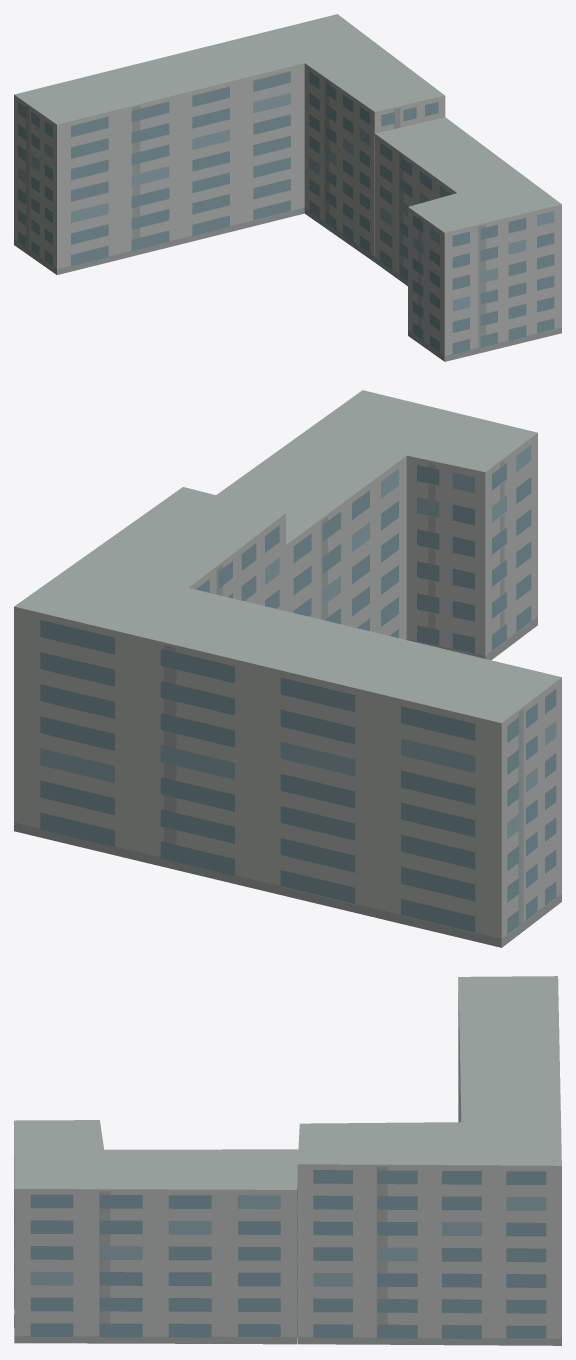
The model's file is residential-201c137c-c7a1-4c1c-8325-d9524601a007.glb.
3 renders of one model, top to bottom at view 1: azimuth 30°, elevation 25°; view 2: azimuth 150°, elevation 25°; view 3: azimuth 270°, elevation 25°, orthographic. The views are drawn at different scales.
Visible parts, largest first — view 1: residential-201c137c-c7a1-4c1c-8325-d9524601a007.tmp; view 2: residential-201c137c-c7a1-4c1c-8325-d9524601a007.tmp; view 3: residential-201c137c-c7a1-4c1c-8325-d9524601a007.tmp.
Part boxes in pixels (box(x1,y1,x2,y2)): residential-201c137c-c7a1-4c1c-8325-d9524601a007.tmp: box(14, 14, 561, 361); residential-201c137c-c7a1-4c1c-8325-d9524601a007.tmp: box(14, 390, 561, 947); residential-201c137c-c7a1-4c1c-8325-d9524601a007.tmp: box(14, 976, 561, 1345).
Size of the model in its own units: 48.28 by 21.35 by 58.91.
